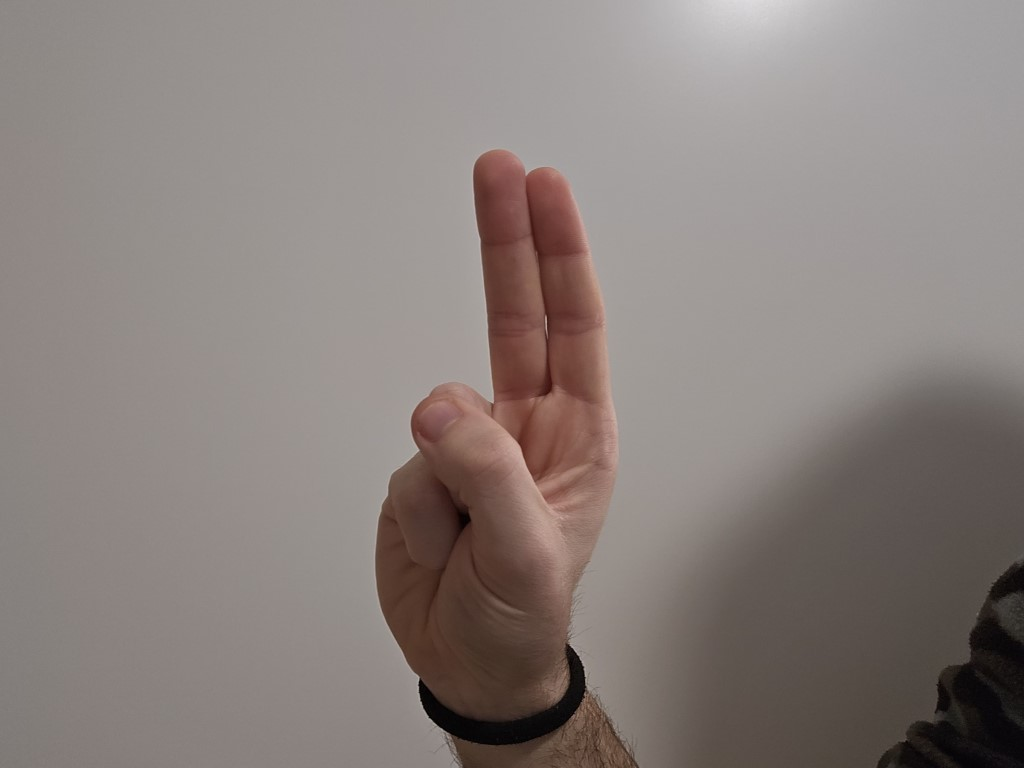u: (329, 131, 629, 687)
